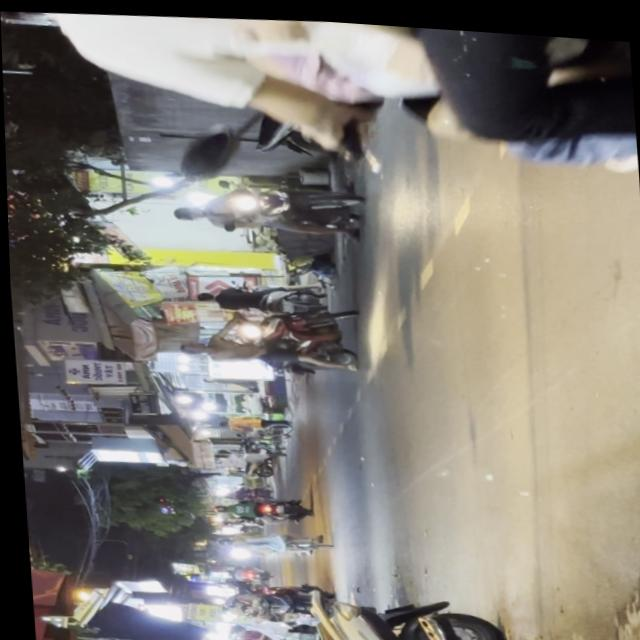licenseplate: (0, 0, 639, 192), (177, 567, 505, 640), (167, 296, 363, 379), (164, 172, 363, 241)
motorcyclist: (167, 199, 202, 220), (173, 335, 204, 353)
